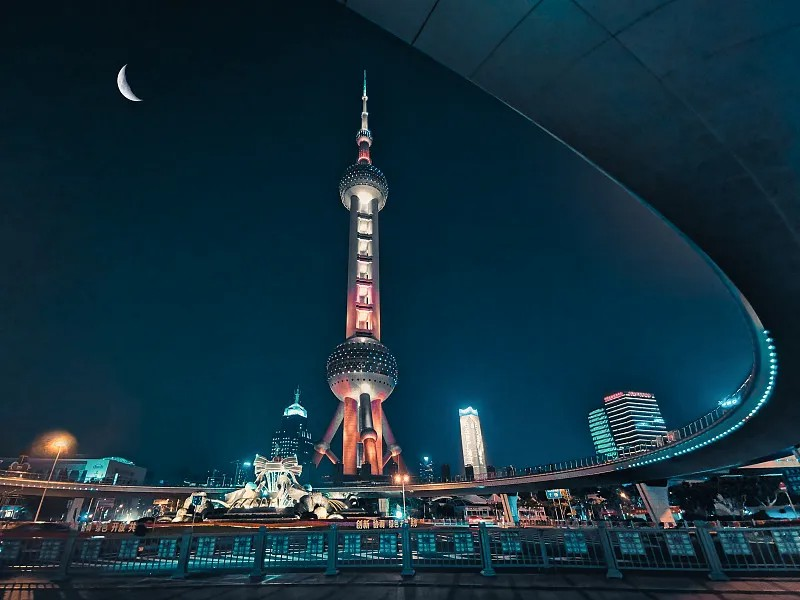Oriental: (314, 67, 407, 474)
